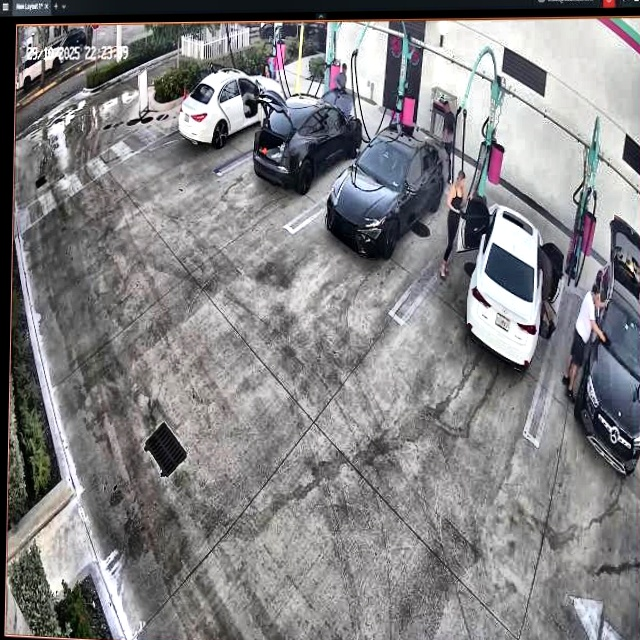Car: (327, 122, 444, 260), (459, 193, 551, 364), (254, 85, 361, 195), (179, 67, 285, 150)
